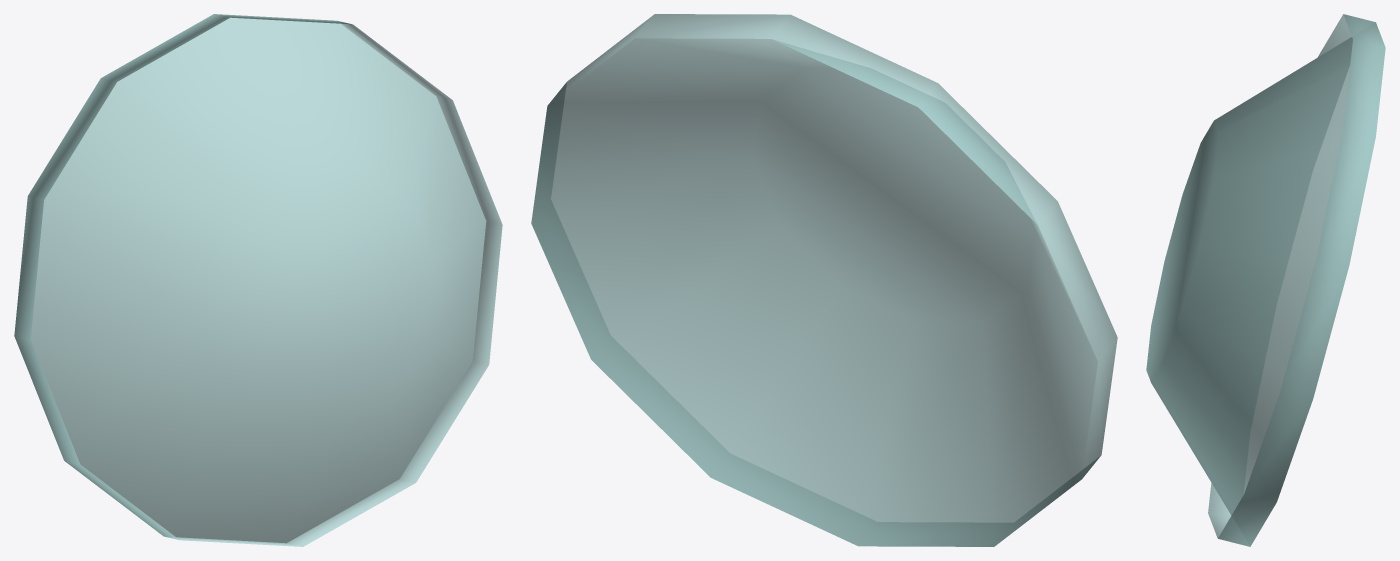
The model's file is original-14.obj.
The picture shows the model from 3 angles, left to right: view 1: azimuth 30°, elevation 25°; view 2: azimuth 150°, elevation 25°; view 3: azimuth 270°, elevation 25°; orthographic projection. The views are drawn at different scales.
Parts seen in each view (by area): view 1: #ID266; view 2: #ID266; view 3: #ID266.
Boxes of the visible parts, box(x1,y1,x2,y2) form: #ID266: box(14, 14, 502, 546); #ID266: box(531, 14, 1117, 546); #ID266: box(1146, 14, 1385, 546).
Bounding box in the file's own units: 0.028 × 0.0274 × 0.0124.
